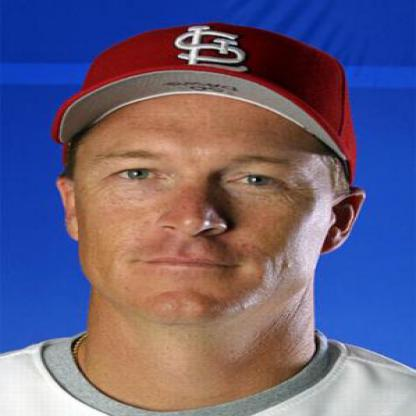face: (72, 44, 339, 332)
